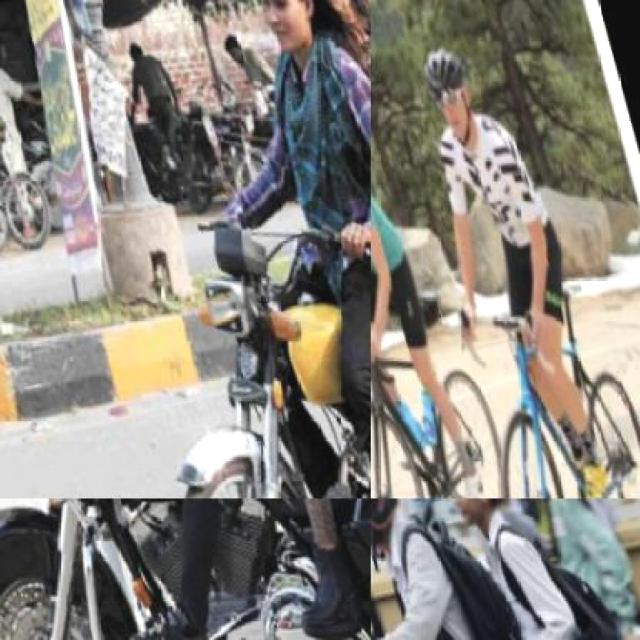With Helmet: (408, 18, 502, 156)
Without Helmet: (232, 0, 352, 74), (425, 498, 520, 530)
